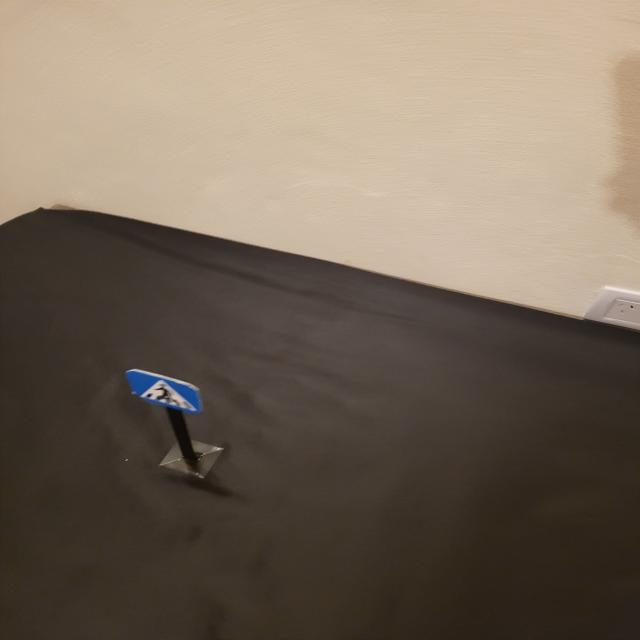crosswalk: (125, 368, 204, 419)
